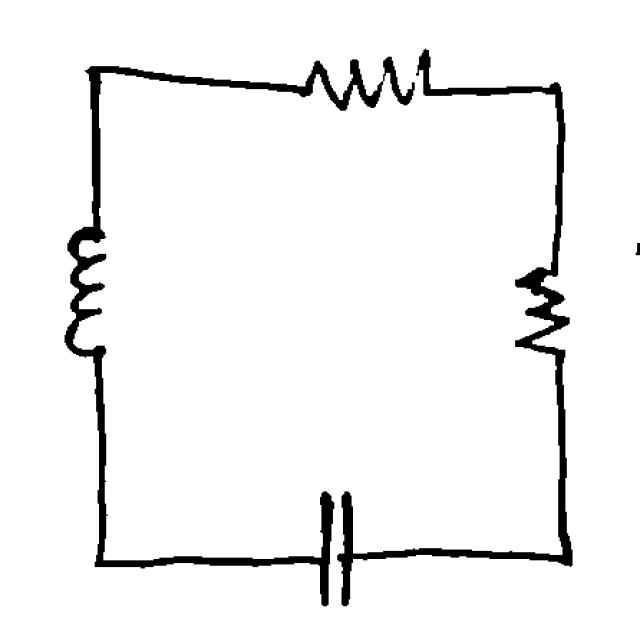capacitor: (296, 482, 374, 616)
inductor: (52, 206, 142, 384)
resistor: (286, 42, 453, 122), (499, 250, 587, 383)
